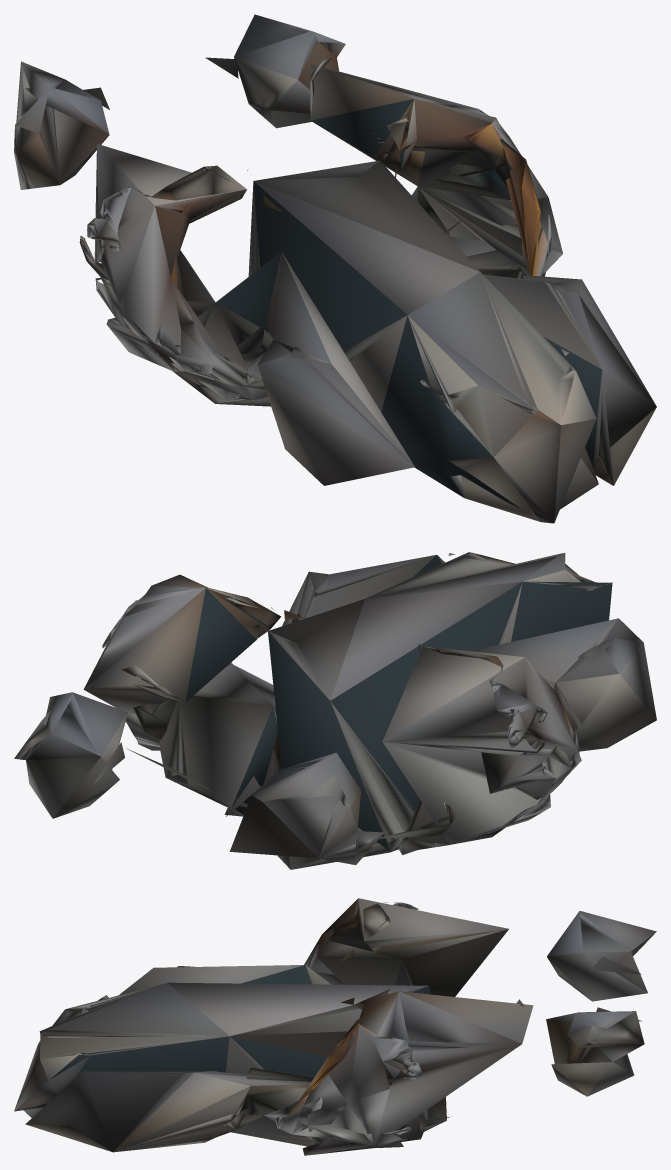
The model's file is arc-lod.glb.
The picture shows the model from 3 angles, top to bottom: view 1: azimuth 30°, elevation 25°; view 2: azimuth 150°, elevation 25°; view 3: azimuth 270°, elevation 25°; orthographic projection. The views are drawn at different scales.
Visible parts, largest first — view 1: SM_Arc_Instanced_LOD; view 2: SM_Arc_Instanced_LOD; view 3: SM_Arc_Instanced_LOD.
Part boxes in pixels (<box>): SM_Arc_Instanced_LOD: <box>14,14,656,523</box>; SM_Arc_Instanced_LOD: <box>14,552,656,869</box>; SM_Arc_Instanced_LOD: <box>14,898,656,1155</box>.
Size of the model in its own units: 2.32 by 1.35 by 3.94.
